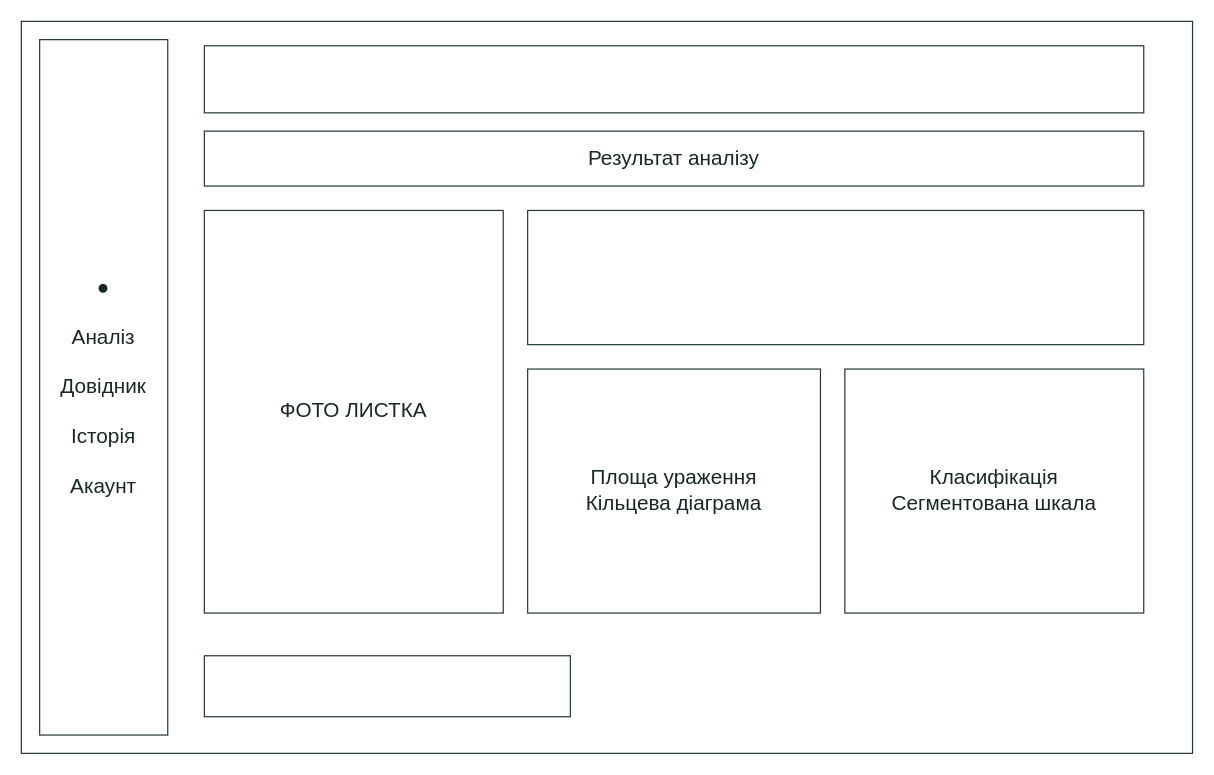
Some shapes in this 1214 by 775 pixel diagram are drawn without their labels. Each missing label, with the centre of its shape:
Аналіз листя пшениці: [673,79]
Аналізувати інше фото: [386,686]
Назва хвороби · Короткий опис Посилання на статтю: [835,277]
